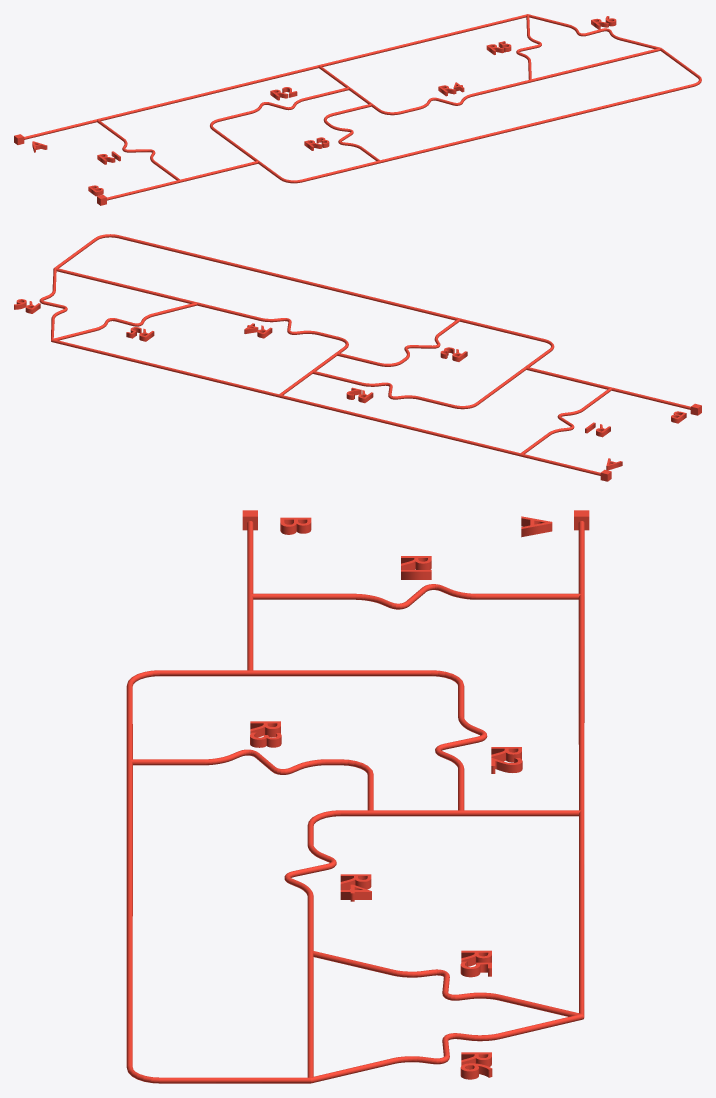
The model's file is Diagrama 3 rojo.glb.
3 views of the same model, one above another, from view 1: azimuth 30°, elevation 25°; view 2: azimuth 150°, elevation 25°; view 3: azimuth 270°, elevation 25° (orthographic). The views are drawn at different scales.
Visible parts, largest first — view 1: Plane, Plane.004, Plane.002, Plane.005, Plane.001, Plane.003; view 2: Plane, Plane.004, Plane.002, Plane.005, Plane.003, Plane.001; view 3: Plane, Plane.004, Plane.001, Plane.005, Plane.003, Plane.002.
Part boxes in pixels (bbox=[...]): Plane: bbox=[24, 14, 701, 183]; Plane.004: bbox=[318, 48, 660, 115]; Plane.002: bbox=[107, 161, 258, 200]; Plane.005: bbox=[323, 103, 379, 160]; Plane.001: bbox=[97, 119, 180, 180]; Plane.003: bbox=[516, 14, 541, 79]; Plane: bbox=[39, 234, 600, 475]; Plane.004: bbox=[55, 267, 348, 395]; Plane.002: bbox=[526, 366, 690, 409]; Plane.005: bbox=[337, 318, 459, 366]; Plane.003: bbox=[53, 302, 196, 340]; Plane.001: bbox=[521, 387, 611, 453]; Plane: bbox=[126, 521, 584, 1083]; Plane.004: bbox=[284, 810, 581, 1077]; Plane.001: bbox=[250, 584, 580, 609]; Plane.005: bbox=[130, 749, 373, 810]; Plane.003: bbox=[311, 950, 581, 1016]; Plane.002: bbox=[247, 521, 253, 670].
Bounding box in the file's own units: 4.43 × 0.05 × 1.53.
